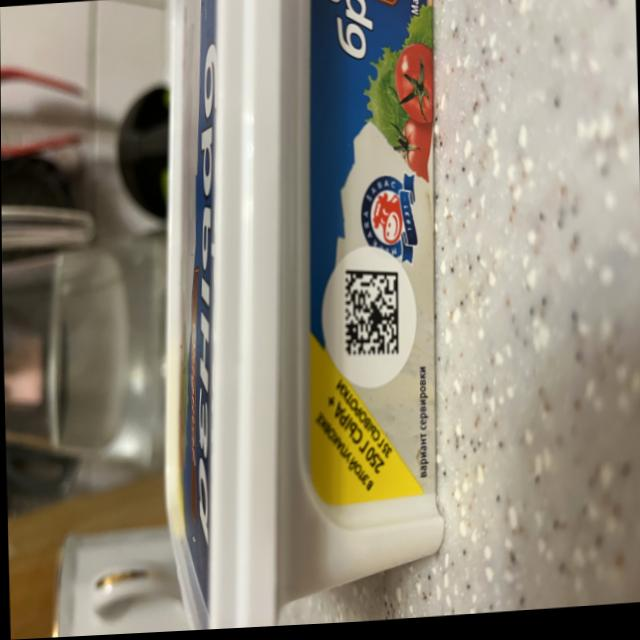datamatrix: (343, 270, 400, 361)
